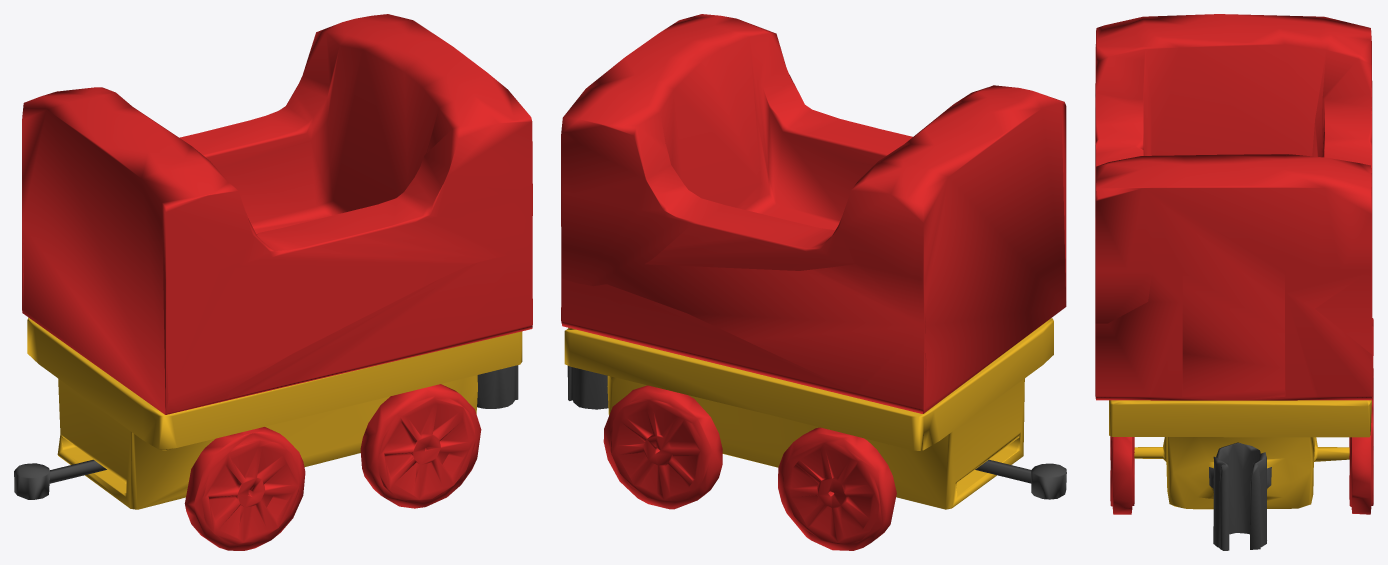
Rendered from train_vagone2_LOD02.fbx.
3 renders of one model, left to right at view 1: azimuth 30°, elevation 25°; view 2: azimuth 150°, elevation 25°; view 3: azimuth 270°, elevation 25°, orthographic. The views are drawn at different scales.
Visible parts, largest first — view 1: train car; view 2: train car; view 3: train car.
Boxes of the visible parts, <box> form: train car: <box>14,14,532,550</box>; train car: <box>561,14,1066,550</box>; train car: <box>1095,14,1373,550</box>.
Size of the model in its own units: 218 by 165 by 111.
